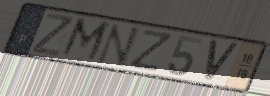5: (166, 34, 205, 78)
M: (57, 16, 113, 65)
N: (94, 23, 143, 70)
V: (203, 37, 241, 84)
Z: (126, 28, 175, 74), (30, 11, 76, 59)
